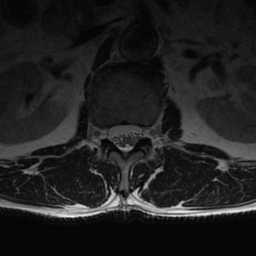CCS_normal: (118, 117, 131, 161)
LFS_normal: (141, 119, 150, 146)
LLS_normal: (132, 117, 141, 152)
RFS_normal: (101, 119, 110, 149)
RLS_normal: (109, 119, 119, 151)
